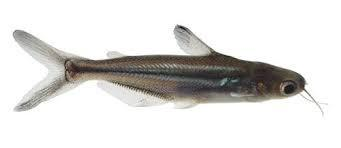Pangasius: (3, 24, 315, 115)
